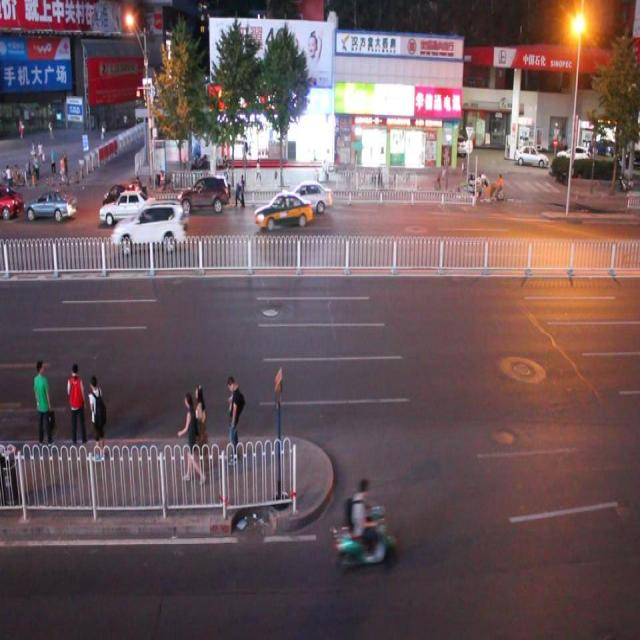car: (112, 200, 184, 254), (255, 192, 311, 230), (178, 174, 230, 212), (100, 190, 158, 224), (281, 178, 332, 215), (26, 189, 77, 225), (105, 181, 138, 217), (1, 184, 22, 219)
